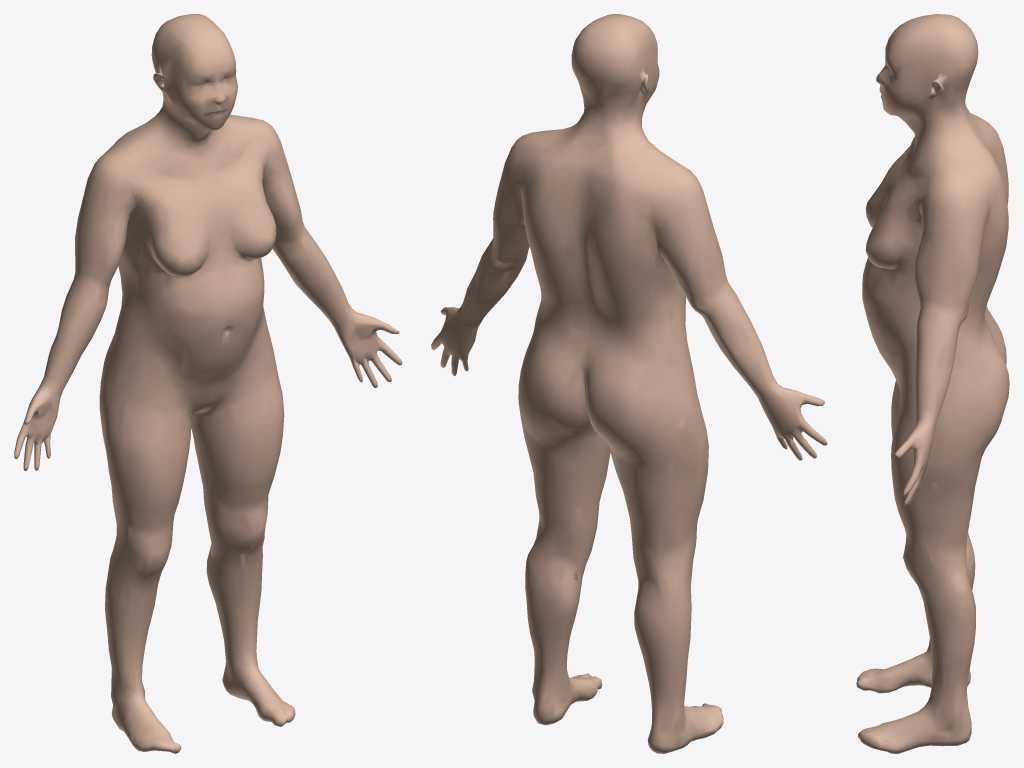
Rendered from adult_female.surface.LOD4.glb.
3 renders of one model, left to right at view 1: azimuth 30°, elevation 25°; view 2: azimuth 150°, elevation 25°; view 3: azimuth 270°, elevation 25°, orthographic. The views are drawn at different scales.
Visible parts, largest first — view 1: ADULT.FEMALE.SURFACE.SKIN; view 2: ADULT.FEMALE.SURFACE.SKIN; view 3: ADULT.FEMALE.SURFACE.SKIN.
Boxes of the visible parts, x1=… form: ADULT.FEMALE.SURFACE.SKIN: x1=14, y1=14, x2=402, y2=753; ADULT.FEMALE.SURFACE.SKIN: x1=431, y1=14, x2=827, y2=753; ADULT.FEMALE.SURFACE.SKIN: x1=856, y1=14, x2=1009, y2=753.
Size of the model in its own units: 0.968 by 1.67 by 0.3294.
